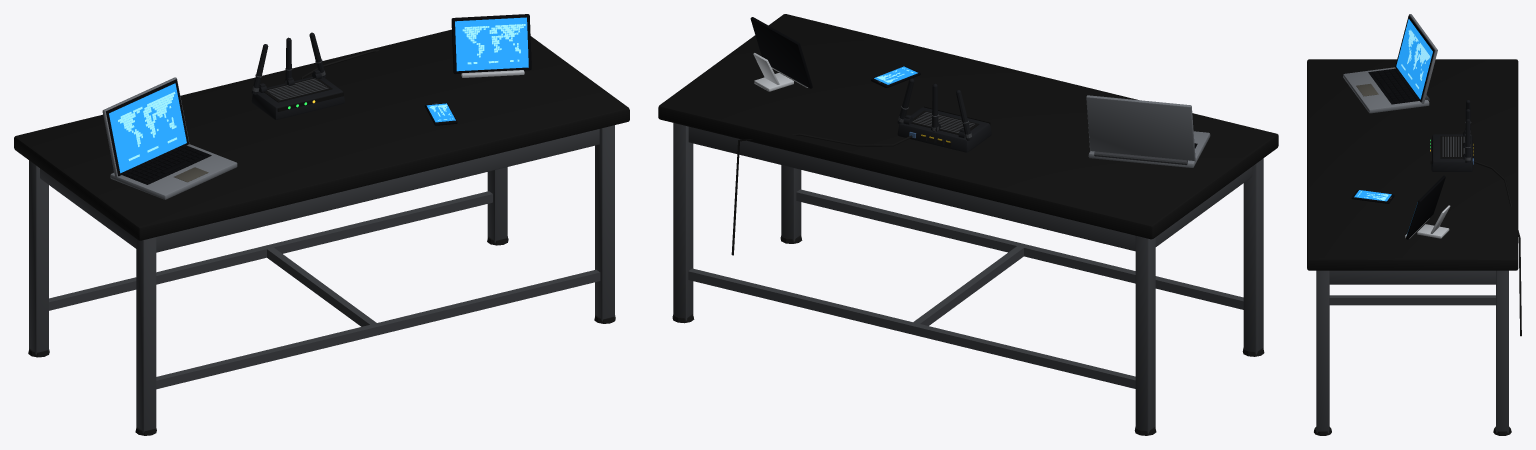
File: wifi_set.glb
The picture shows the model from 3 angles, left to right: view 1: azimuth 30°, elevation 25°; view 2: azimuth 150°, elevation 25°; view 3: azimuth 270°, elevation 25°; orthographic projection. The views are drawn at different scales.
Parts seen in each view (by area): view 1: deskTable, devices; view 2: deskTable, devices; view 3: deskTable, devices.
Boxes of the visible parts, bbox=[...] form: deskTable: bbox=[14, 29, 629, 435]; devices: bbox=[102, 14, 531, 199]; deskTable: bbox=[658, 14, 1278, 435]; devices: bbox=[731, 17, 1210, 255]; deskTable: bbox=[1307, 59, 1518, 435]; devices: bbox=[1343, 14, 1521, 336].
Size of the model in its own units: 1.8 by 0.9819 by 0.8135.
Materials: 14 (2 with a texture image).
